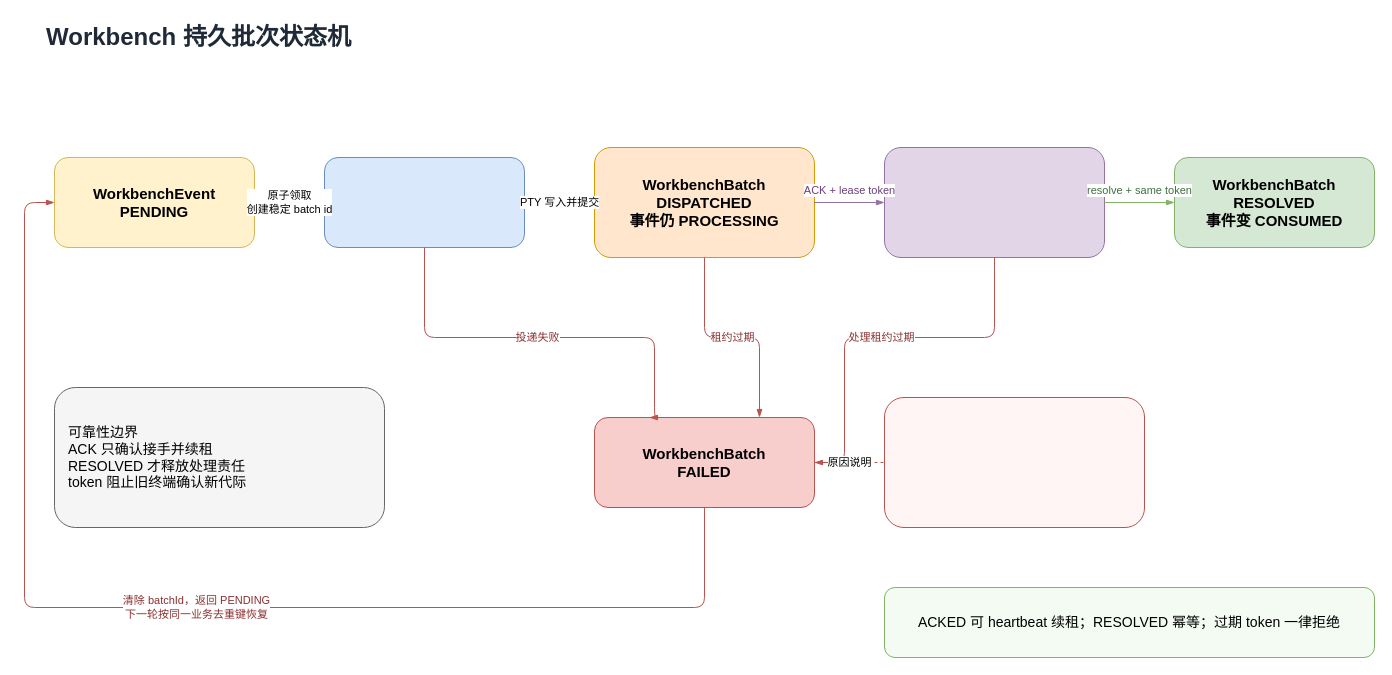
Some shapes in this 1392 by 675 pixel diagram are drawn without their labels. Each missing label, with the centre of its shape:
WorkbenchBatch ACKED 事件仍 PROCESSING: [994,202]
WorkbenchBatch CLAIMED: [424,202]
恢复条件 • PTY 写入 / 提交失败 • CLAIMED / DISPATCHED / ACKED 租约过期: [1014,462]
